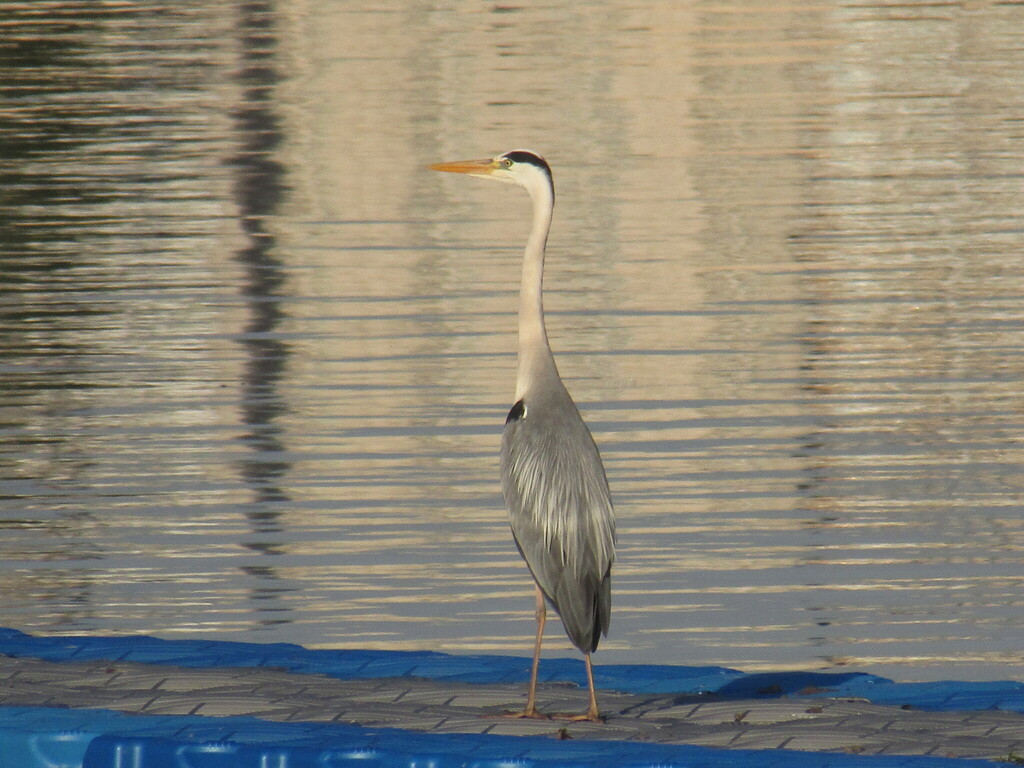heron: (422, 148, 618, 727)
